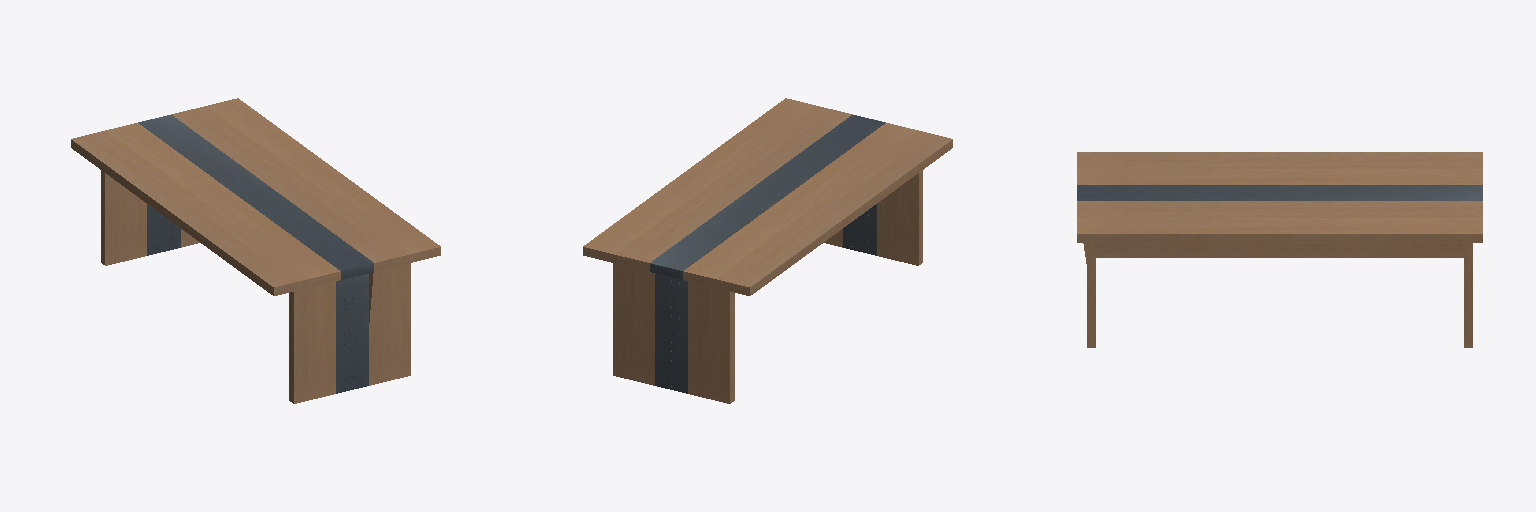
3 renders of one model, left to right at view 1: azimuth 30°, elevation 25°; view 2: azimuth 150°, elevation 25°; view 3: azimuth 270°, elevation 25°, orthographic.
Parts seen in each view (by area): view 1: 3dSolid; view 2: 3dSolid; view 3: 3dSolid.
Part boxes in pixels (x1,y1,x2,y2): 3dSolid: (71, 98, 440, 403); 3dSolid: (583, 98, 952, 403); 3dSolid: (1077, 152, 1482, 347).
Bounding box in the file's own units: 100 × 72 × 210.
Materials: 2 (2 with a texture image).